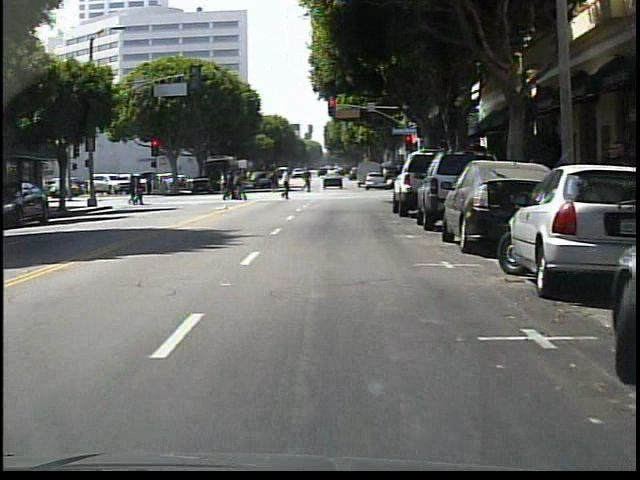person: (273, 166, 295, 204), (297, 167, 316, 196)
